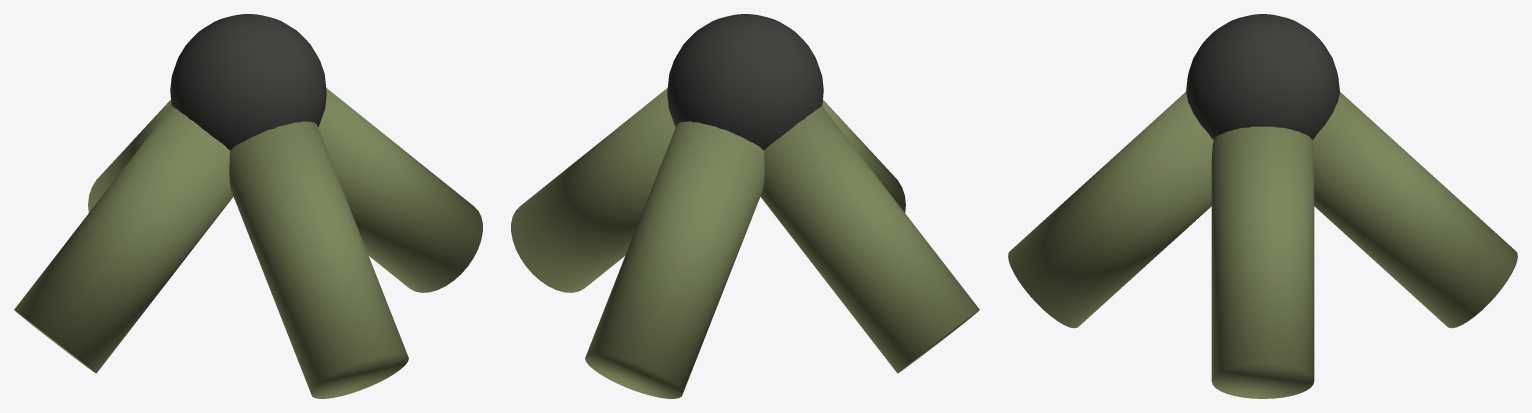
Rendered from turretBase.glb.
The picture shows the model from 3 angles, left to right: view 1: azimuth 30°, elevation 25°; view 2: azimuth 150°, elevation 25°; view 3: azimuth 270°, elevation 25°; orthographic projection. The views are drawn at different scales.
Visible parts, largest first — view 1: Sphere; view 2: Sphere; view 3: Sphere.
Part boxes in pixels (x1,y1,x2,y2): Sphere: (14,14,482,398); Sphere: (511,14,979,398); Sphere: (1008,14,1517,398).
Size of the model in its own units: 1.39 by 0.9065 by 1.39.
